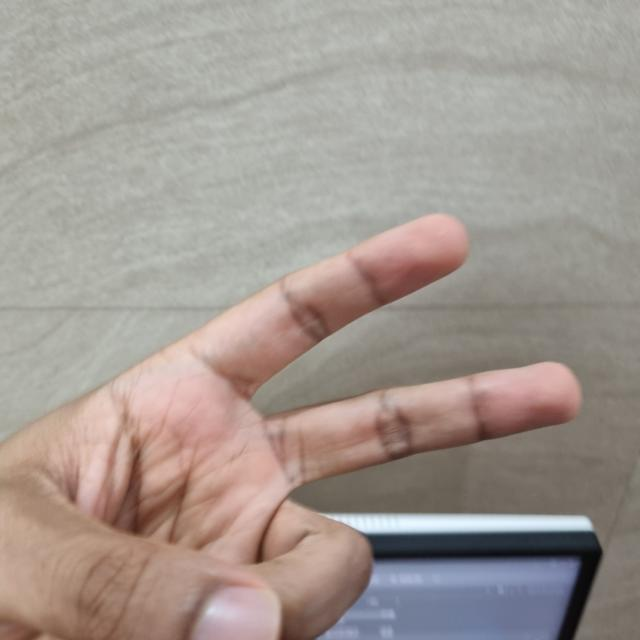Scissors: (0, 222, 575, 639)
